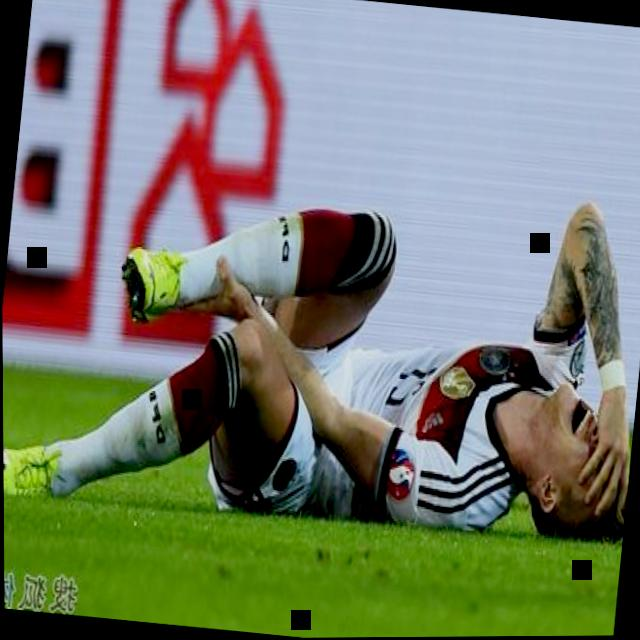Fall-Detected: (1, 101, 640, 562)
